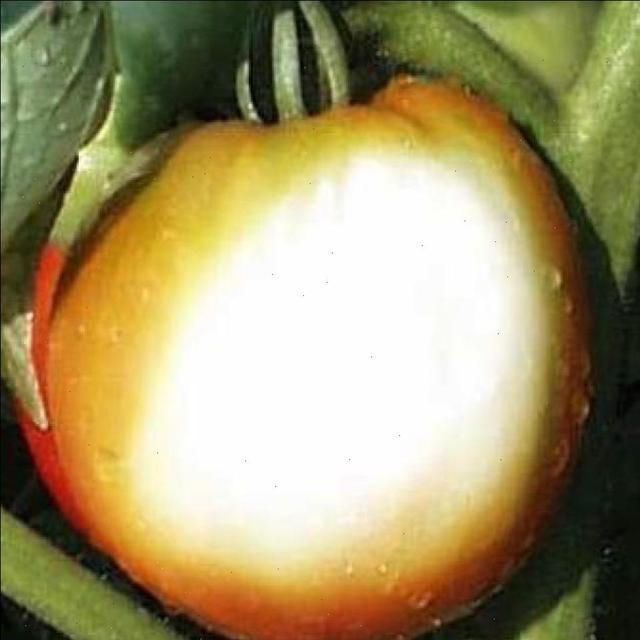Sunscald Fruit: (87, 92, 371, 394)
